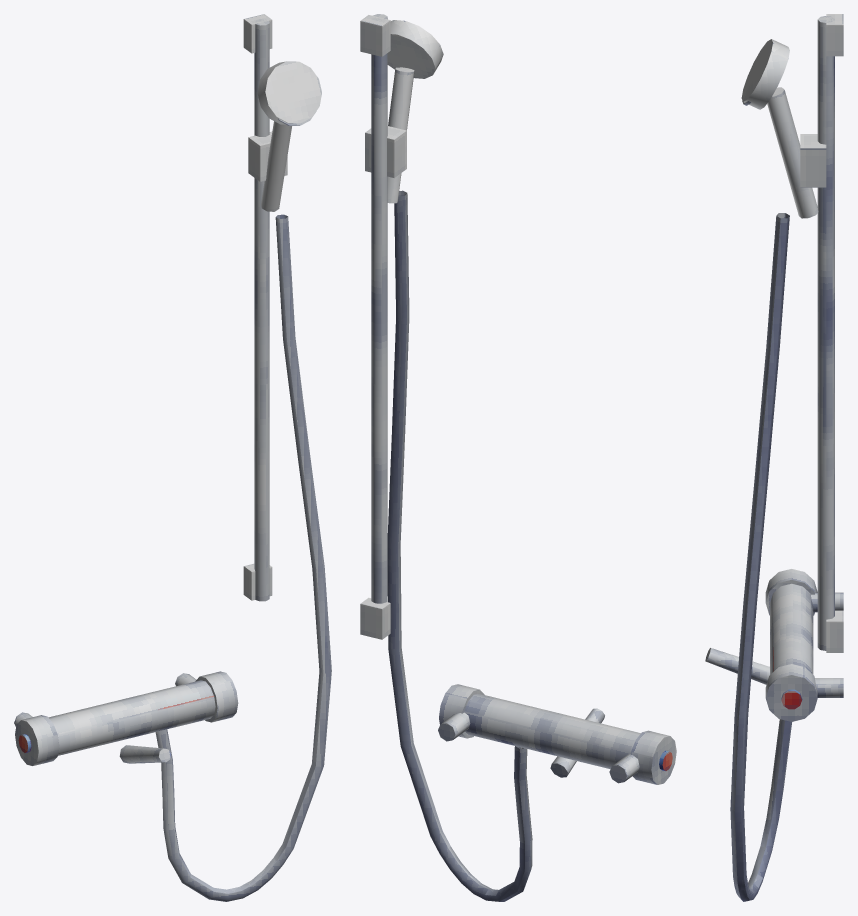
Rendered from shower_own.glb.
3 views of the same model, side by side, from view 1: azimuth 30°, elevation 25°; view 2: azimuth 150°, elevation 25°; view 3: azimuth 270°, elevation 25° (orthographic). The views are drawn at different scales.
Visible parts, largest first — view 1: mesh; view 2: mesh; view 3: mesh.
Part boxes in pixels (x1,y1,x2,y2): mesh: (14, 14, 331, 901); mesh: (360, 14, 676, 901); mesh: (705, 14, 843, 901).
Size of the model in its own units: 0.4157 by 1.17 by 0.1608.
Materials: 1 (1 with a texture image).
